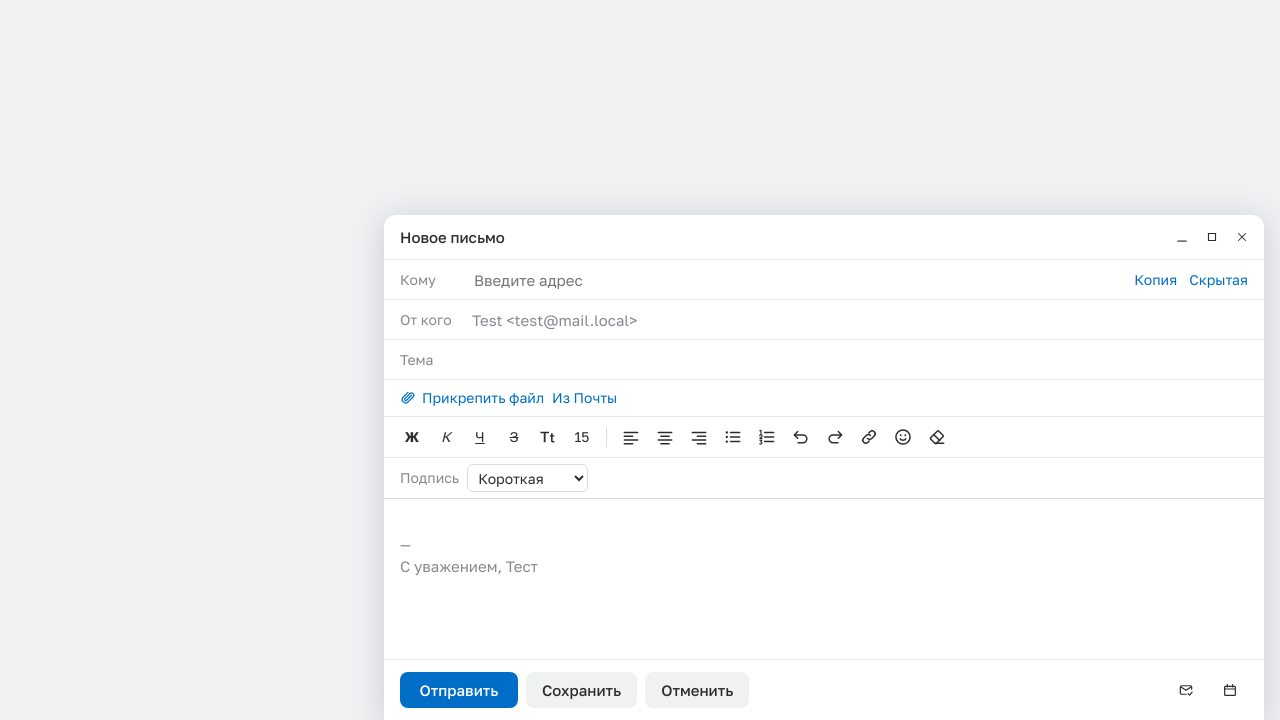
Test: выбор подписи в окне написания › выбранная подпись переживает сворачивание окна
Select "Короткая" in the dropdown named "Подпись". click: (528, 478)
box: [467,464,588,492]
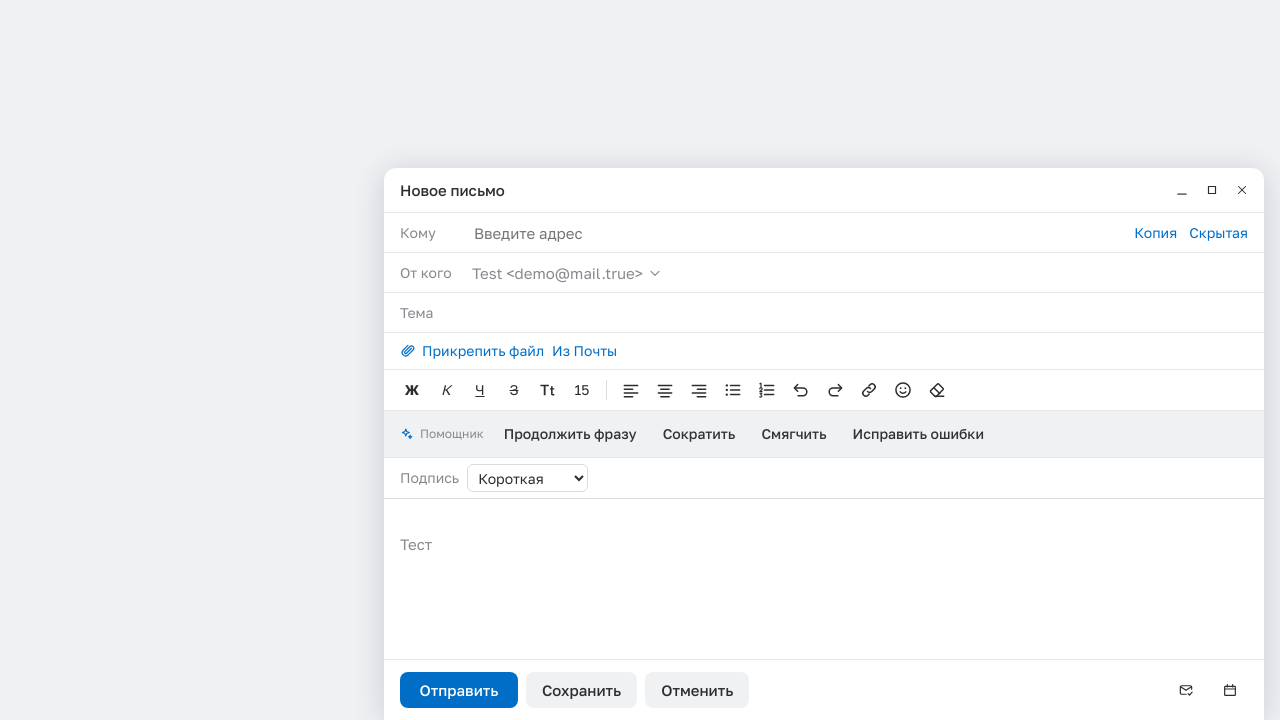
Result: the field named "Текст письма" reads "Тест" at [400,535,432,553]
